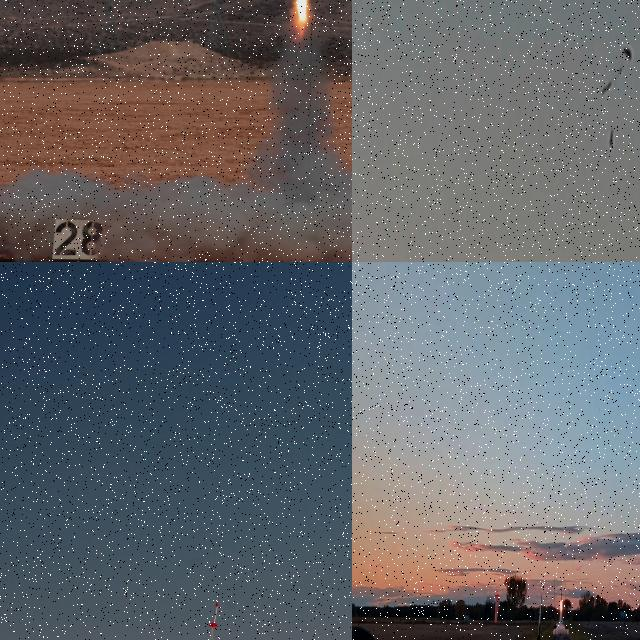Rocket: (209, 602, 219, 627), (609, 130, 614, 147), (560, 585, 562, 602)
